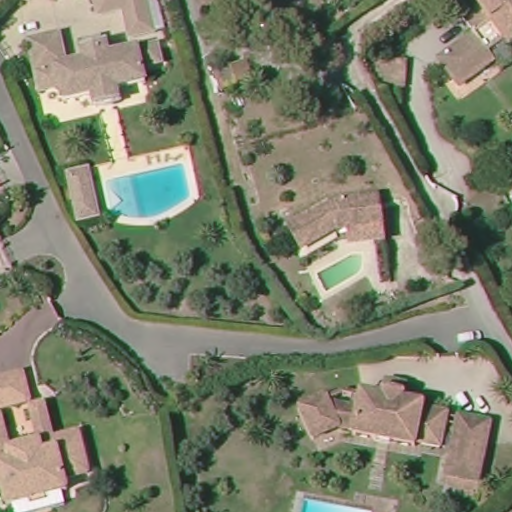pool: (102, 165, 190, 223)
